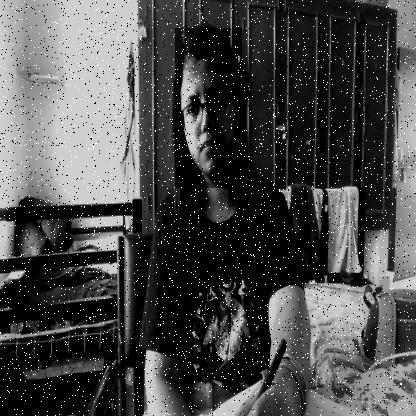Normal: (175, 29, 242, 188)
